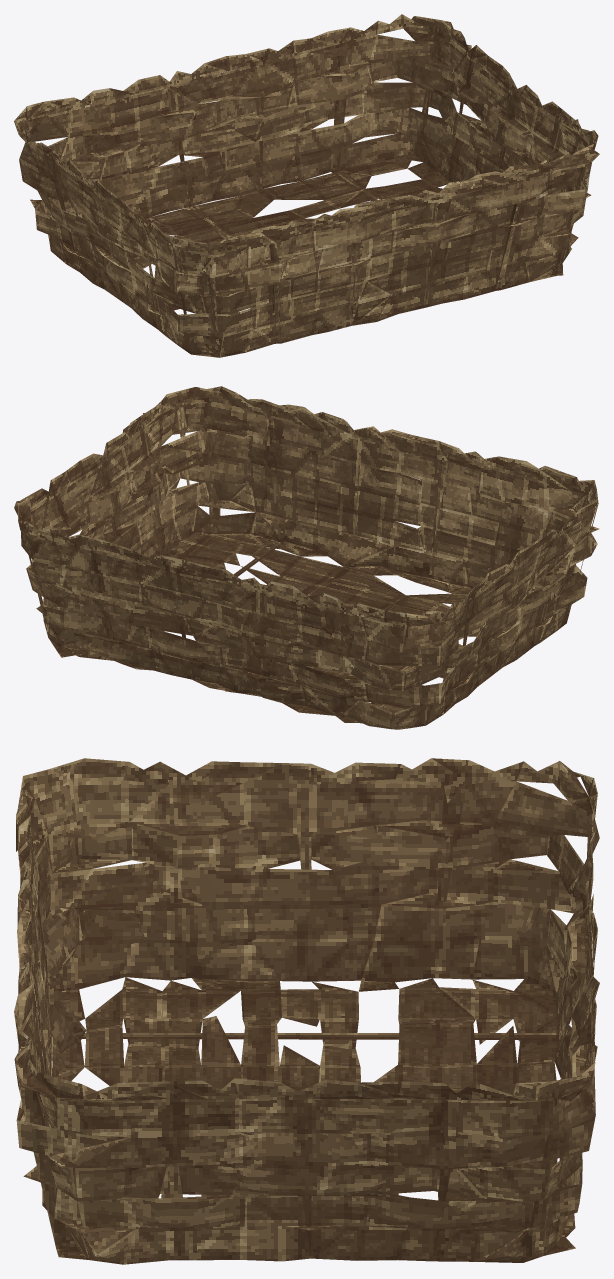
Rendered from wicker_basket_01.glb.
3 views of the same model, one above another, from view 1: azimuth 30°, elevation 25°; view 2: azimuth 150°, elevation 25°; view 3: azimuth 270°, elevation 25° (orthographic). The views are drawn at different scales.
Parts seen in each view (by area): view 1: mesh; view 2: mesh; view 3: mesh.
Boxes of the visible parts, x1=… form: mesh: x1=14, y1=14, x2=599, y2=357; mesh: x1=14, y1=386, x2=599, y2=729; mesh: x1=14, y1=758, x2=599, y2=1264.
Size of the model in its own units: 33.52 by 10 by 25.2.
1 material, 1 textured.
